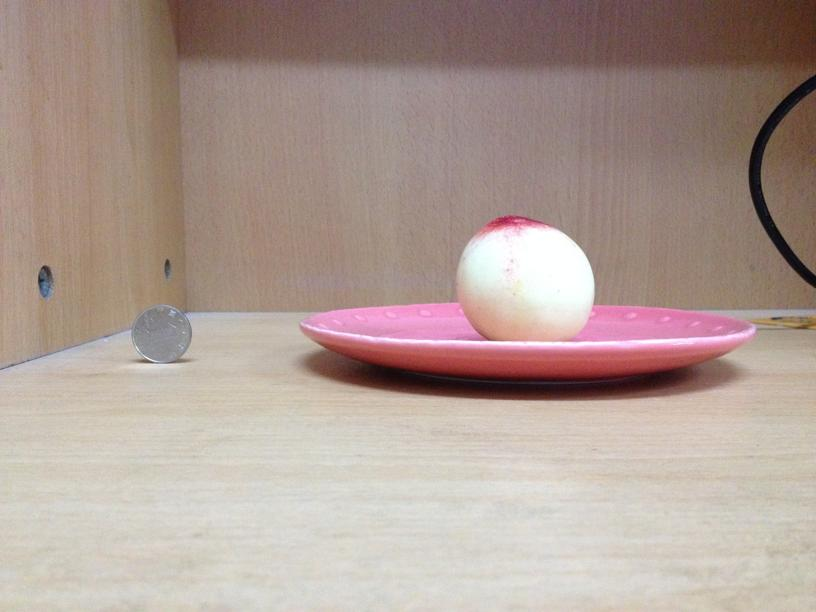coin: (128, 306, 192, 362)
peach: (455, 215, 597, 341)
